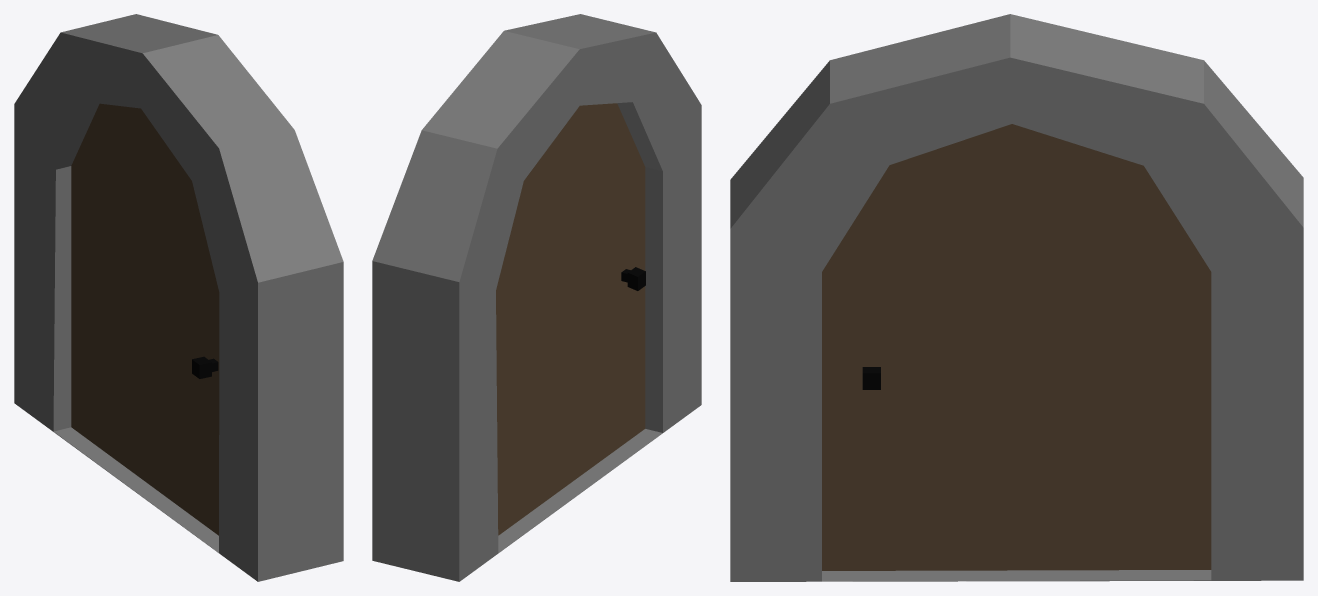
The model's file is door.glb.
The picture shows the model from 3 angles, left to right: view 1: azimuth 30°, elevation 25°; view 2: azimuth 150°, elevation 25°; view 3: azimuth 270°, elevation 25°; orthographic projection. The views are drawn at different scales.
Parts seen in each view (by area): view 1: DungeonDoorWay, DungeonDoor; view 2: DungeonDoorWay, DungeonDoor; view 3: DungeonDoor, DungeonDoorWay.
Boxes of the visible parts, x1,y1,x2,y2 form: DungeonDoorWay: (14, 14, 343, 581); DungeonDoor: (71, 103, 219, 535); DungeonDoorWay: (372, 14, 701, 581); DungeonDoor: (496, 103, 645, 535); DungeonDoor: (822, 124, 1211, 570); DungeonDoorWay: (730, 14, 1303, 581).
Size of the model in its own units: 0.9915 by 4.79 by 4.77.
1 material, 1 textured.
